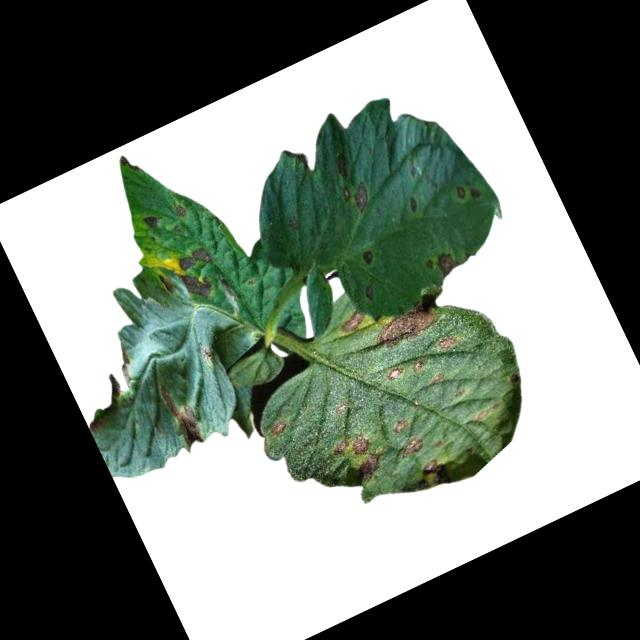Early_blight: (365, 283, 451, 353), (156, 377, 211, 454), (329, 425, 377, 466), (337, 175, 379, 217), (108, 341, 143, 390), (409, 456, 449, 496), (174, 240, 216, 276), (179, 266, 216, 304), (432, 243, 466, 277), (353, 451, 387, 484), (393, 431, 426, 461), (334, 307, 367, 336), (330, 148, 355, 179), (454, 177, 482, 204), (432, 328, 460, 355), (139, 208, 164, 233), (267, 415, 292, 440), (386, 415, 411, 438), (383, 361, 406, 384), (359, 244, 379, 267), (172, 200, 190, 219), (405, 194, 422, 212), (408, 356, 427, 372)
